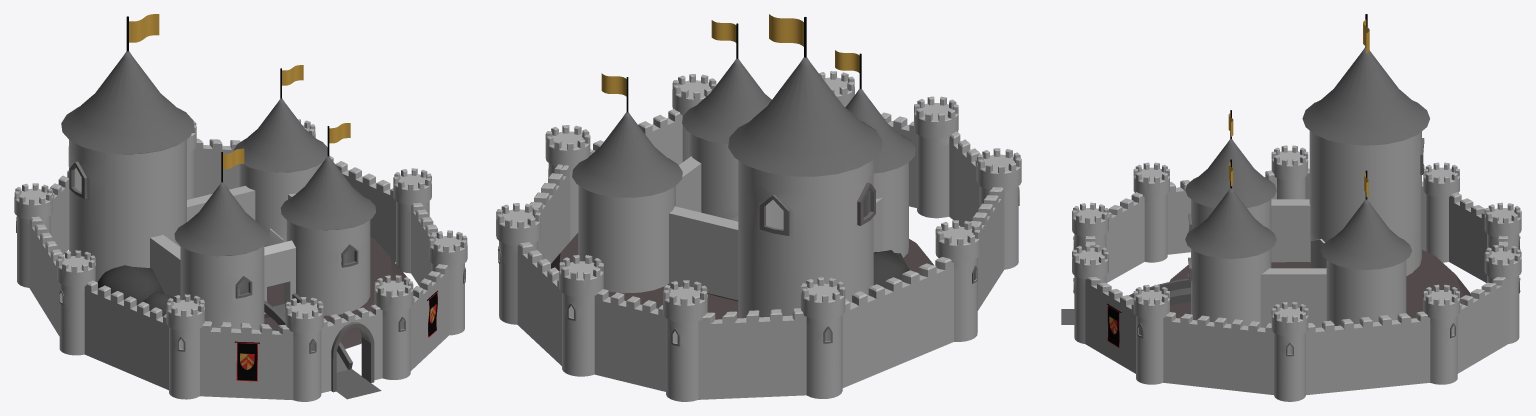
The model's file is low_poly_castle.glb.
3 views of the same model, side by side, from view 1: azimuth 30°, elevation 25°; view 2: azimuth 150°, elevation 25°; view 3: azimuth 270°, elevation 25° (orthographic). The views are drawn at different scales.
Visible parts, largest first — view 1: Object_6, Object_5, Object_11, Object_7, Object_12, Object_13, Object_9, Object_14, Object_4, Object_10, Object_3; view 2: Object_6, Object_5, Object_11, Object_9, Object_12, Object_7, Object_13; view 3: Object_6, Object_5, Object_11, Object_12, Object_10, Object_7, Object_9, Object_14.
Boxes of the visible parts, x1,y1,x2,y2 form: Object_6: [17, 138, 465, 401]; Object_5: [14, 119, 467, 347]; Object_11: [61, 51, 375, 256]; Object_7: [16, 161, 465, 392]; Object_12: [264, 237, 407, 348]; Object_13: [97, 265, 173, 316]; Object_9: [129, 14, 350, 169]; Object_14: [236, 292, 437, 381]; Object_4: [336, 369, 381, 399]; Object_10: [264, 293, 352, 372]; Object_3: [255, 203, 286, 242]; Object_6: [498, 109, 1018, 401]; Object_5: [496, 71, 1021, 387]; Object_11: [572, 57, 915, 197]; Object_9: [601, 14, 859, 96]; Object_12: [551, 232, 933, 319]; Object_7: [498, 169, 1019, 346]; Object_13: [873, 250, 909, 287]; Object_6: [1073, 170, 1519, 401]; Object_5: [1072, 131, 1521, 336]; Object_11: [1185, 47, 1429, 269]; Object_12: [1169, 250, 1470, 318]; Object_10: [1129, 278, 1190, 305]; Object_7: [1073, 138, 1520, 356]; Object_9: [1228, 20, 1369, 197]; Object_14: [1107, 305, 1119, 347].
Size of the model in its own units: 2530 by 1832 by 2863.
10 materials, 1 textured.
